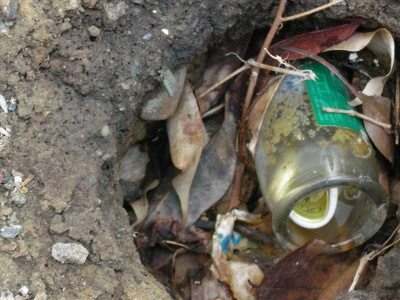bottle: (249, 72, 388, 251)
